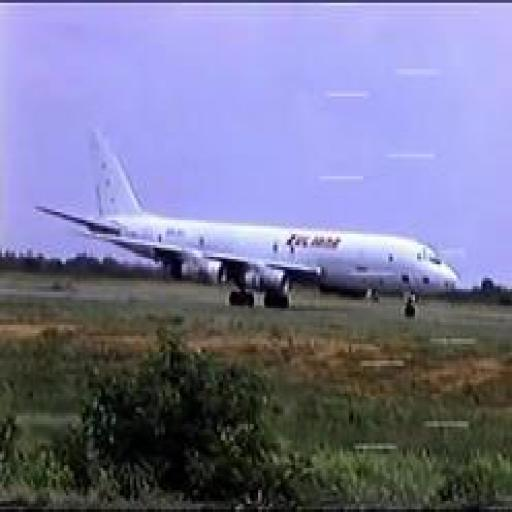aircraft: (33, 126, 460, 318)
